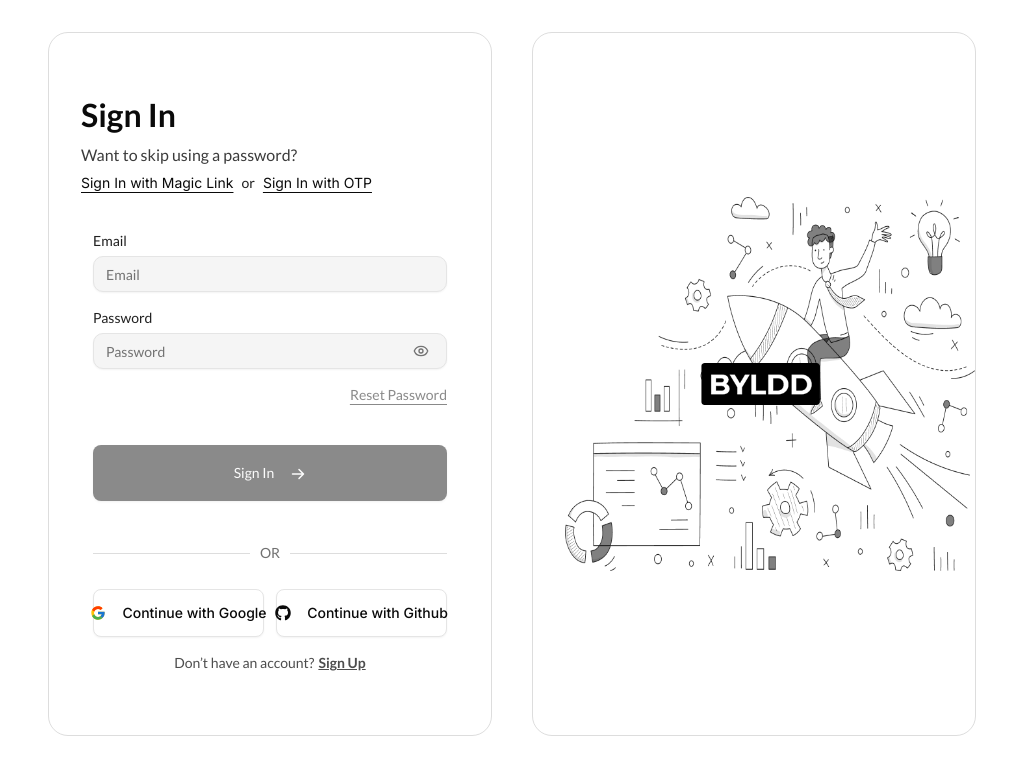
Test: SignInForm Template › disables submit button when form is invalid
The image size is (1024, 768).
Check: the button with test id "signin-btn" is disabled, box [93,445,447,501]
Fill only email (invalid password still)
Step 1. Type "test@example.com" into the field labelled "Email" → (270,274), box [93,256,447,292]
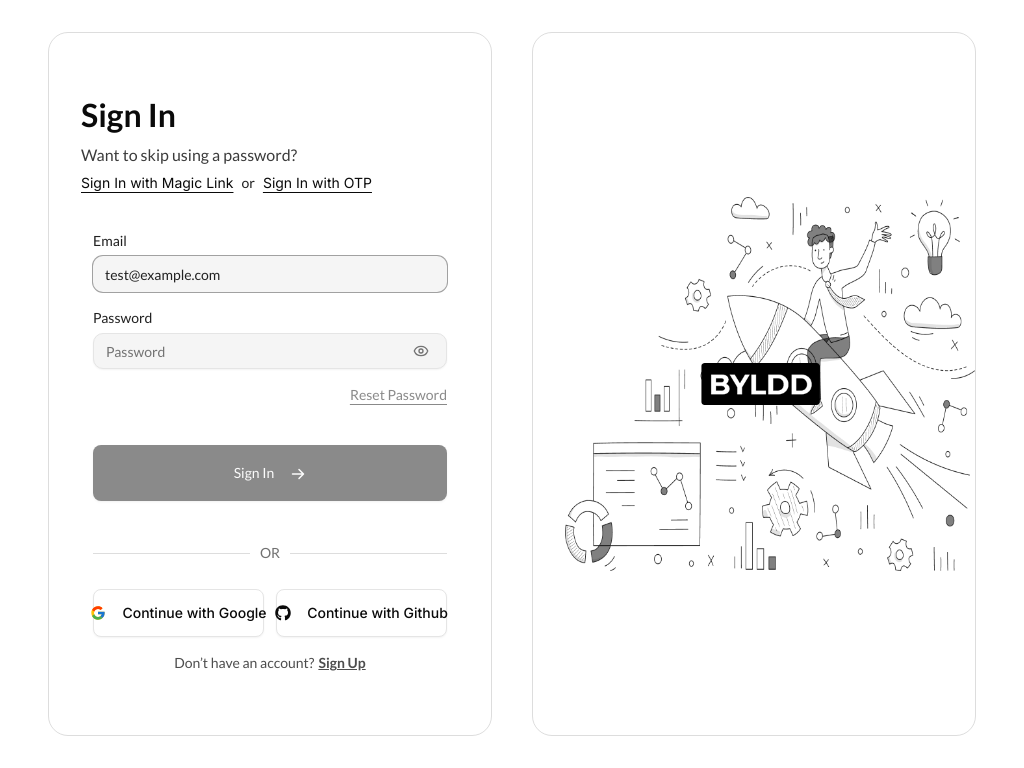
Check: the button with test id "signin-btn" is disabled, box [93,445,447,501]
Step 2. Type "password123" into the password field labelled "Password" → (270,351), box [93,333,447,369]
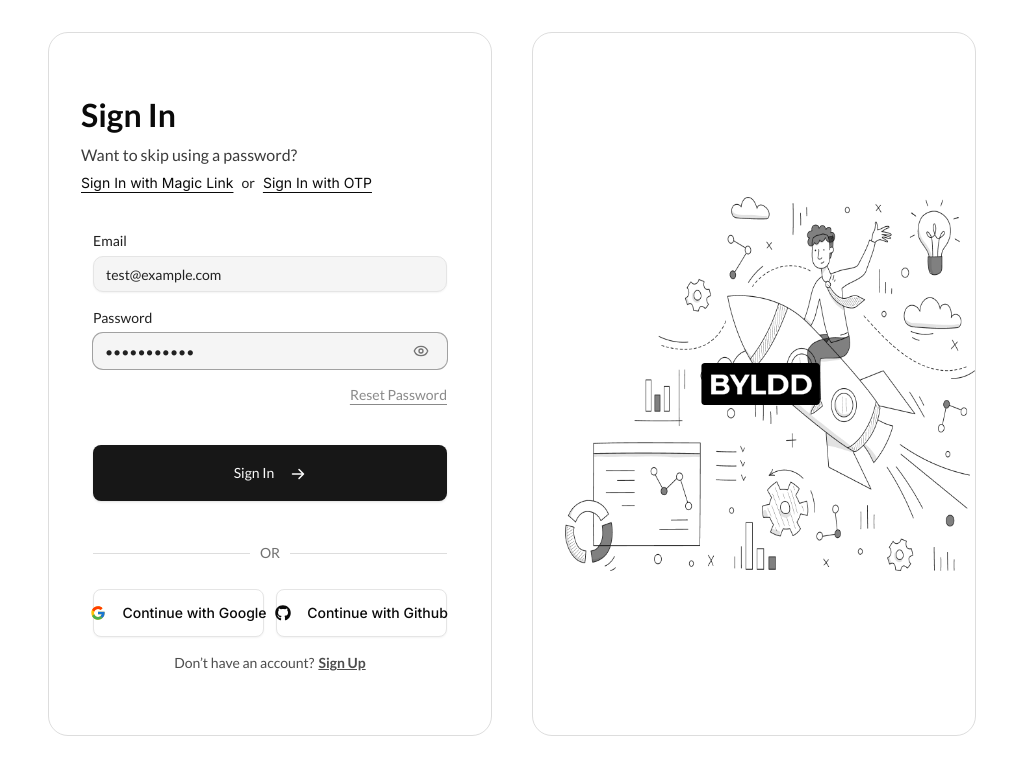
Check: the button with test id "signin-btn" is enabled, box [93,445,447,501]
